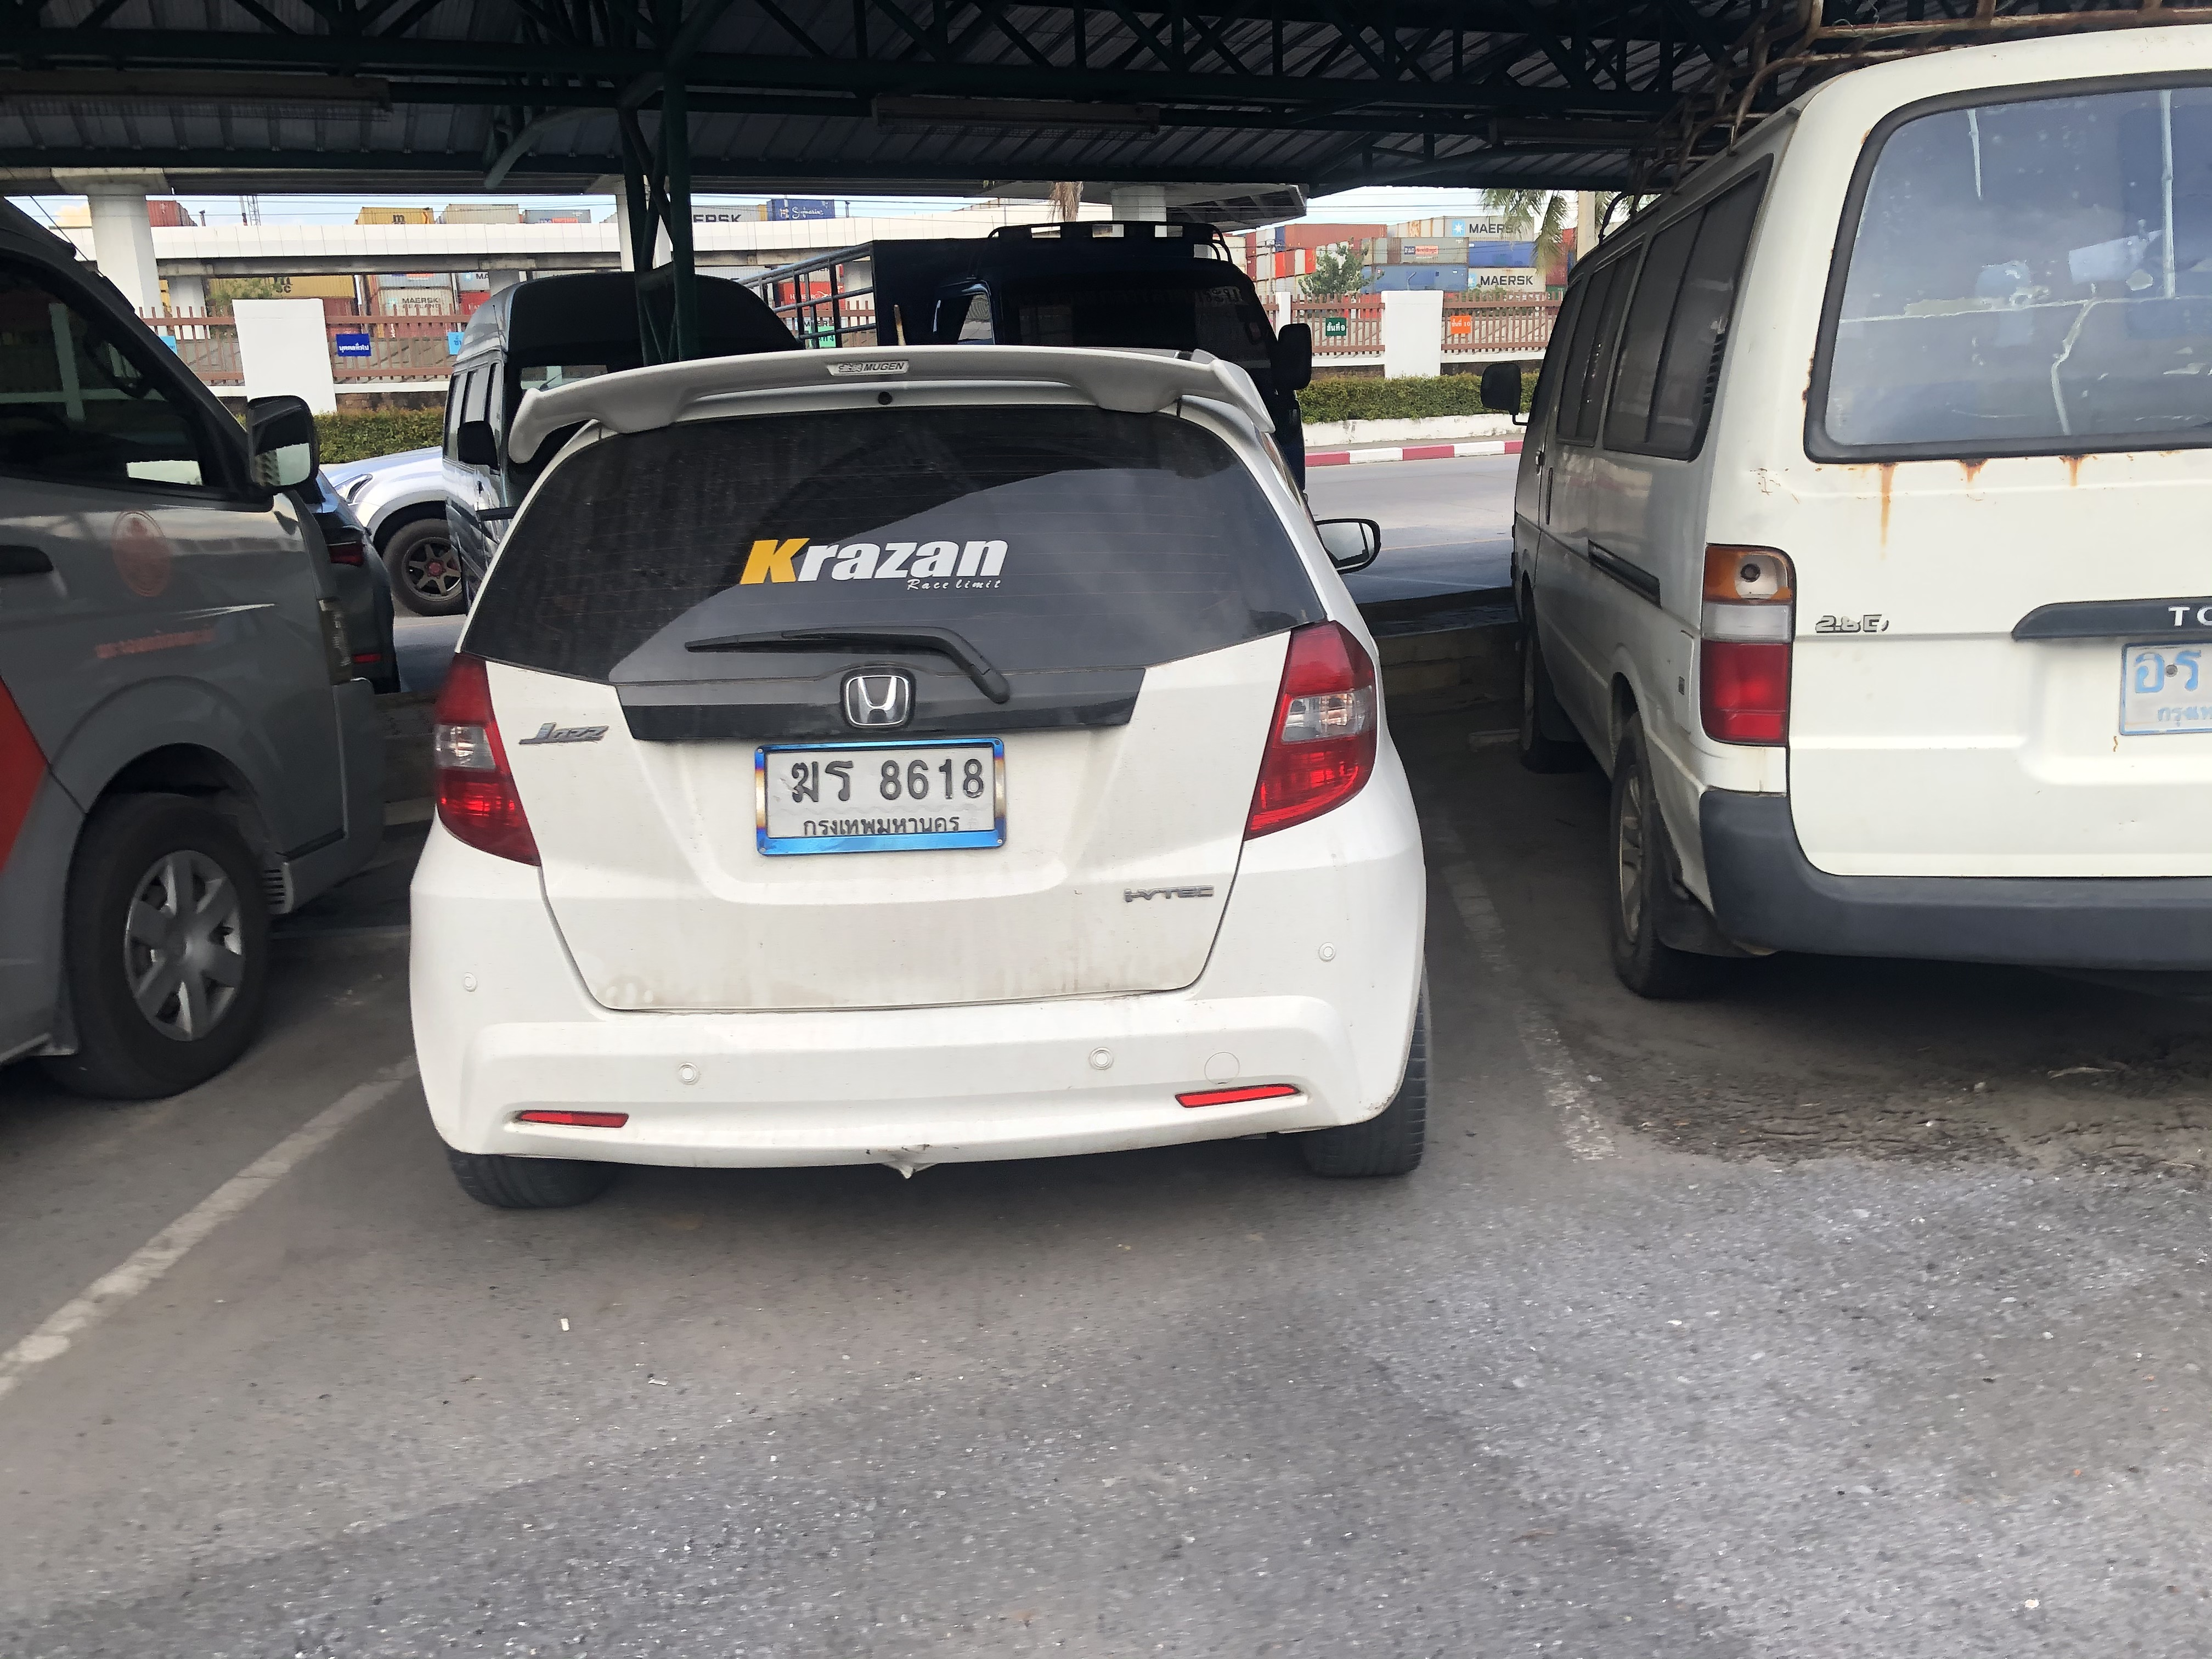in: (765, 746, 998, 836)
out: (752, 735, 1010, 856)
